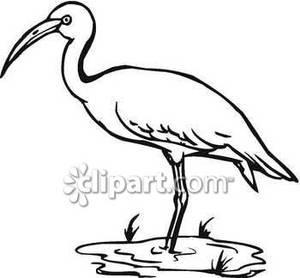bird: (2, 3, 284, 257)
